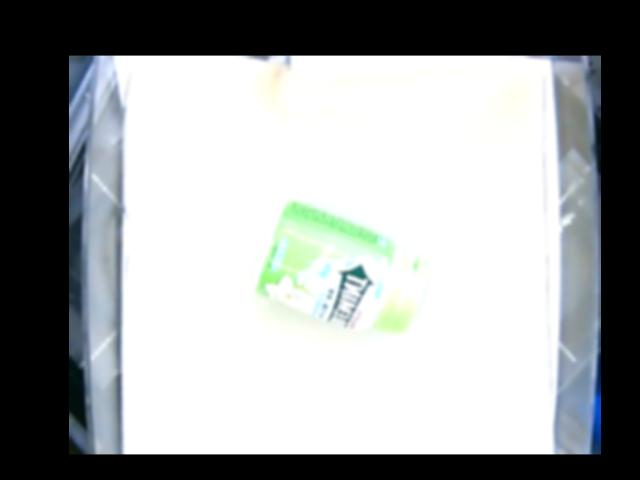Bottle: (253, 199, 426, 333)
